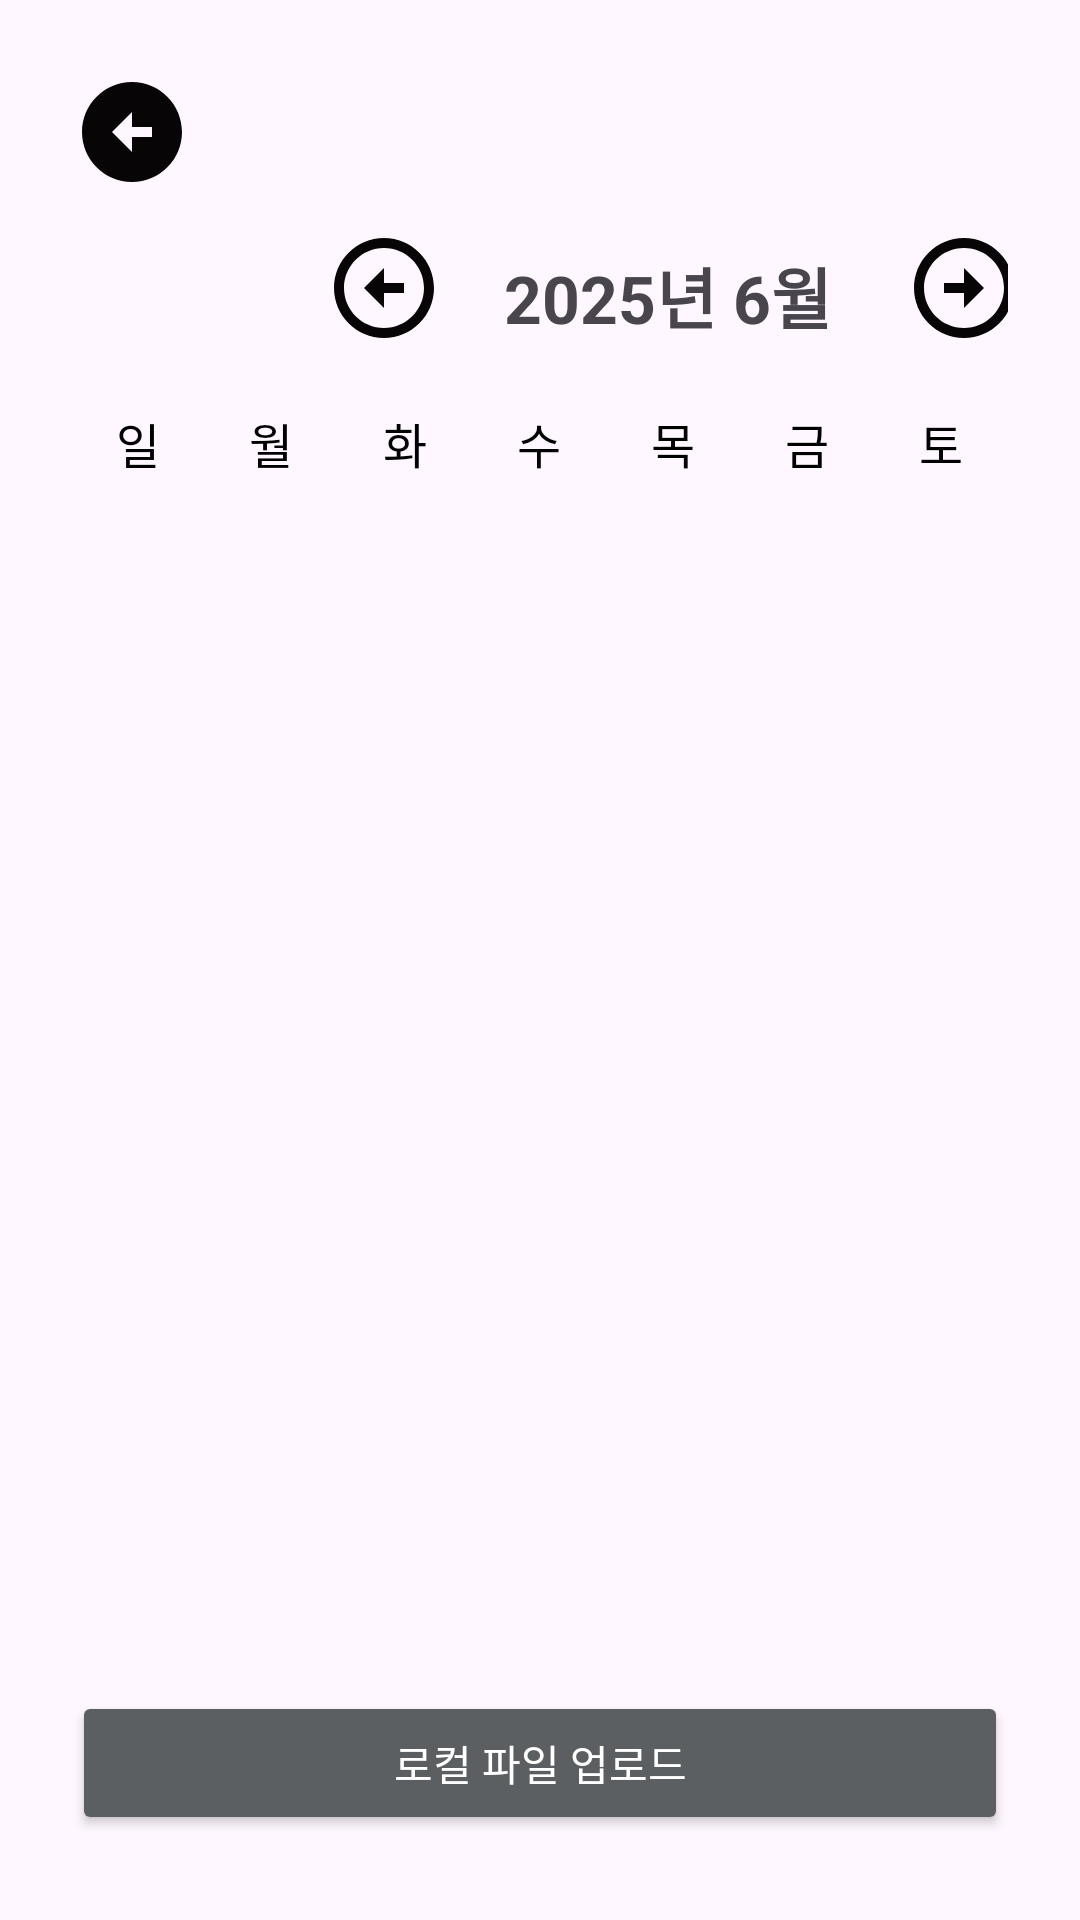

Where to tap for icons on this 1080px x 1920px app screen, as point (x, y):
다음 달: point (961, 288)
이전 달: point (384, 288)
이전 화면으로 돌아가기: point (132, 132)
